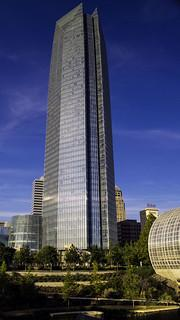building: (40, 2, 121, 257)
